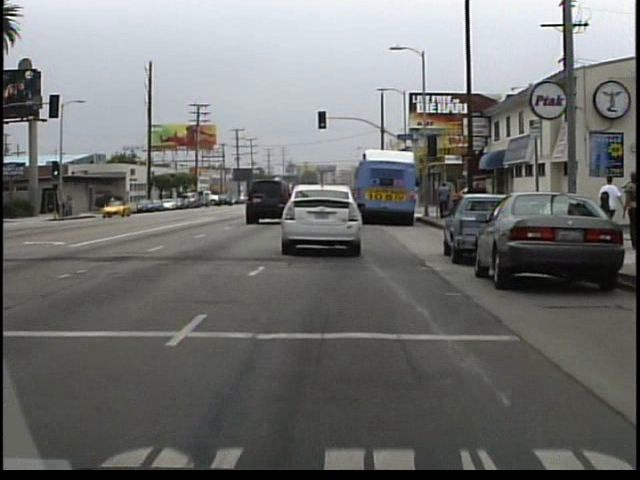person: (597, 170, 623, 238), (619, 171, 638, 249), (434, 181, 452, 218), (109, 193, 123, 217)
